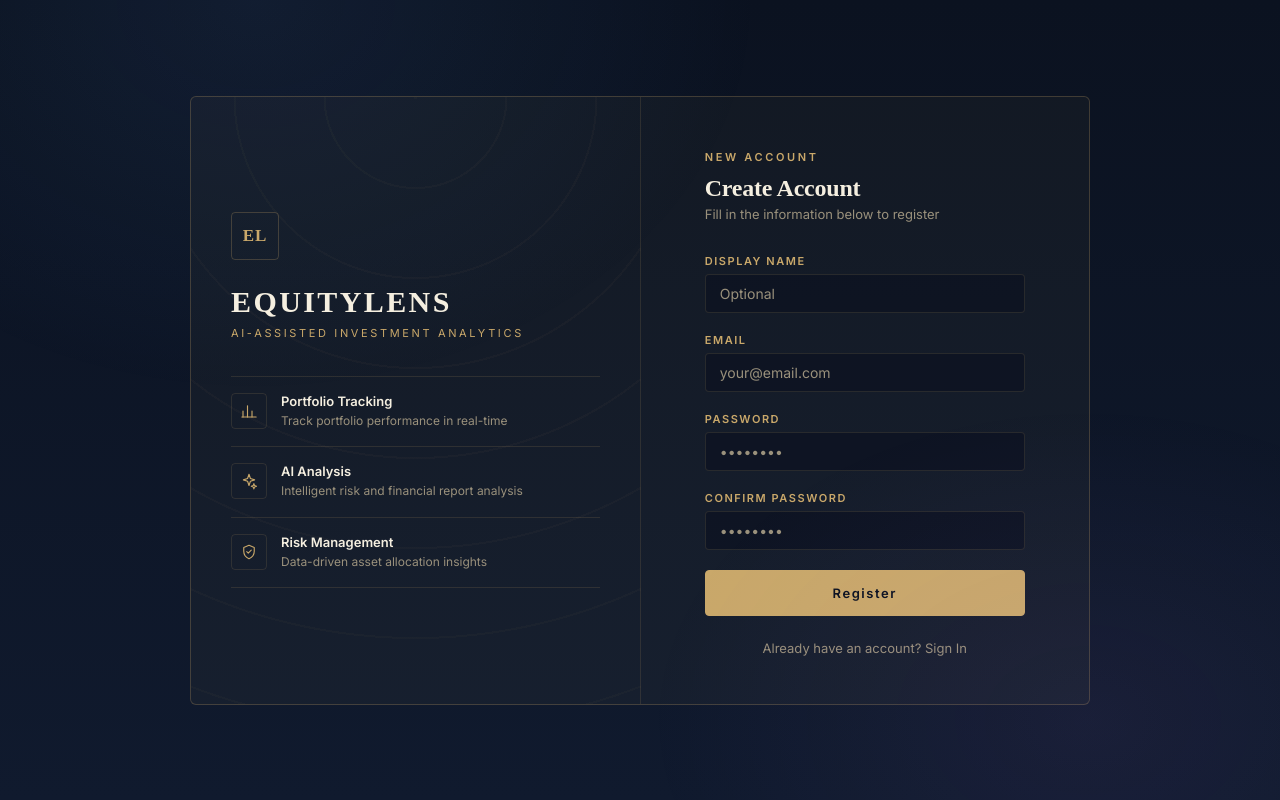
RegisterView › shows error when password is less than 6 characters
Type "test@test.com" into the field with placeholder "your@email.com".
click(865, 372); type("test@test.com")  # box [705,352,1025,392]
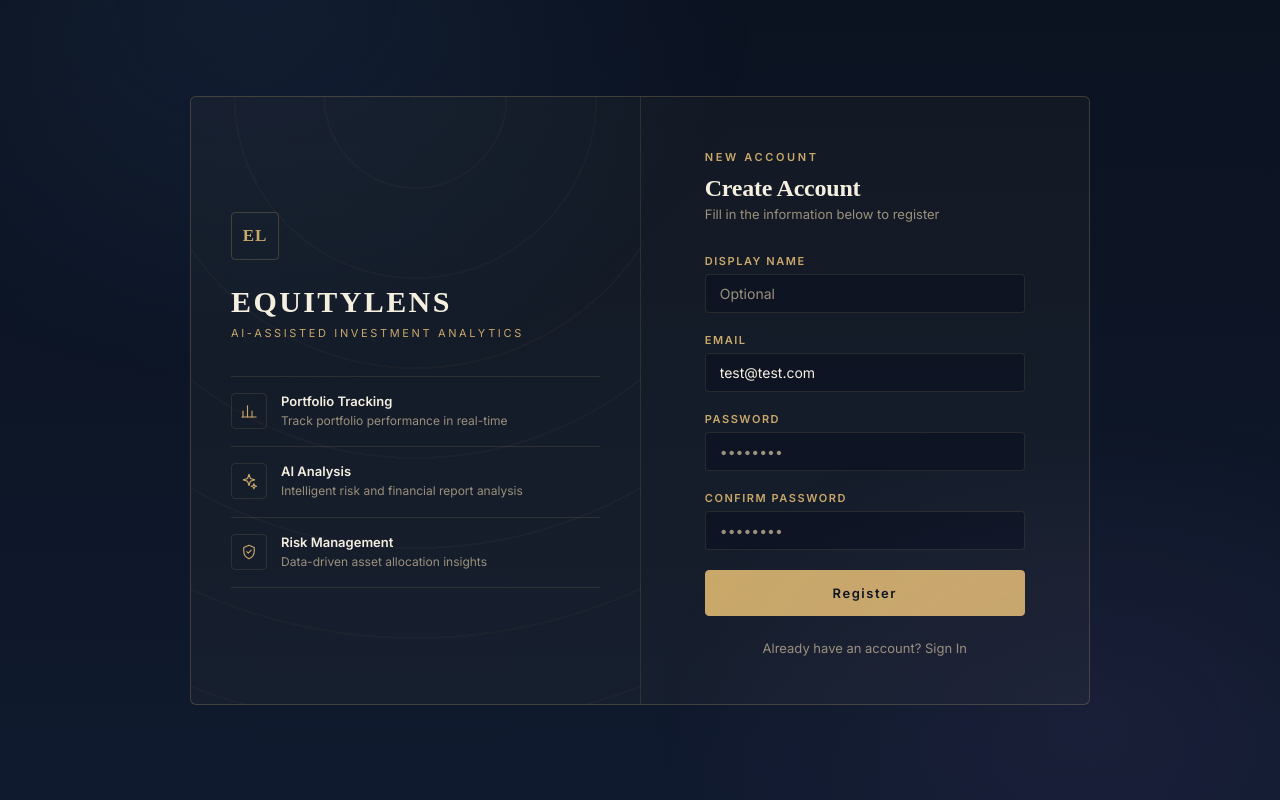
Type "12345" into the 1st password field with placeholder "••••••••".
click(865, 451); type("12345")  # box [705,432,1025,470]
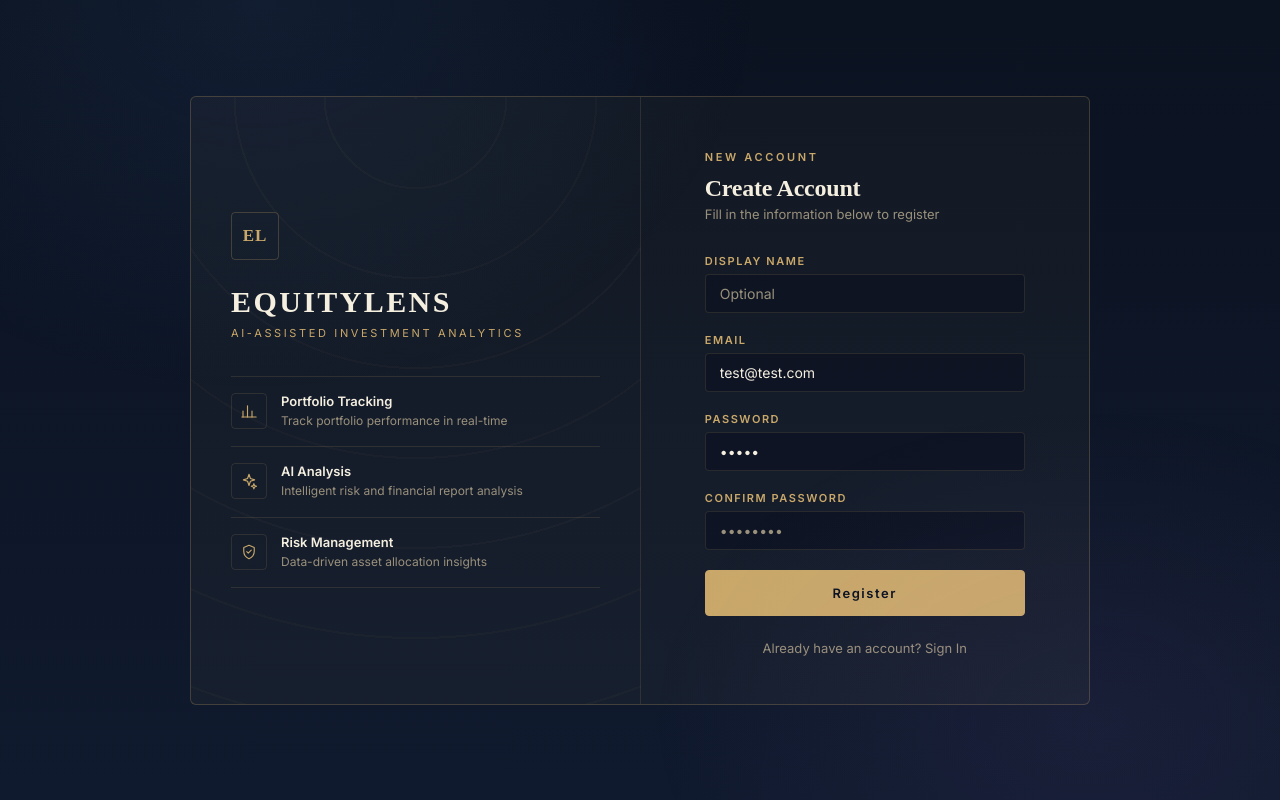
Submit the form, box [705,254,1025,616]
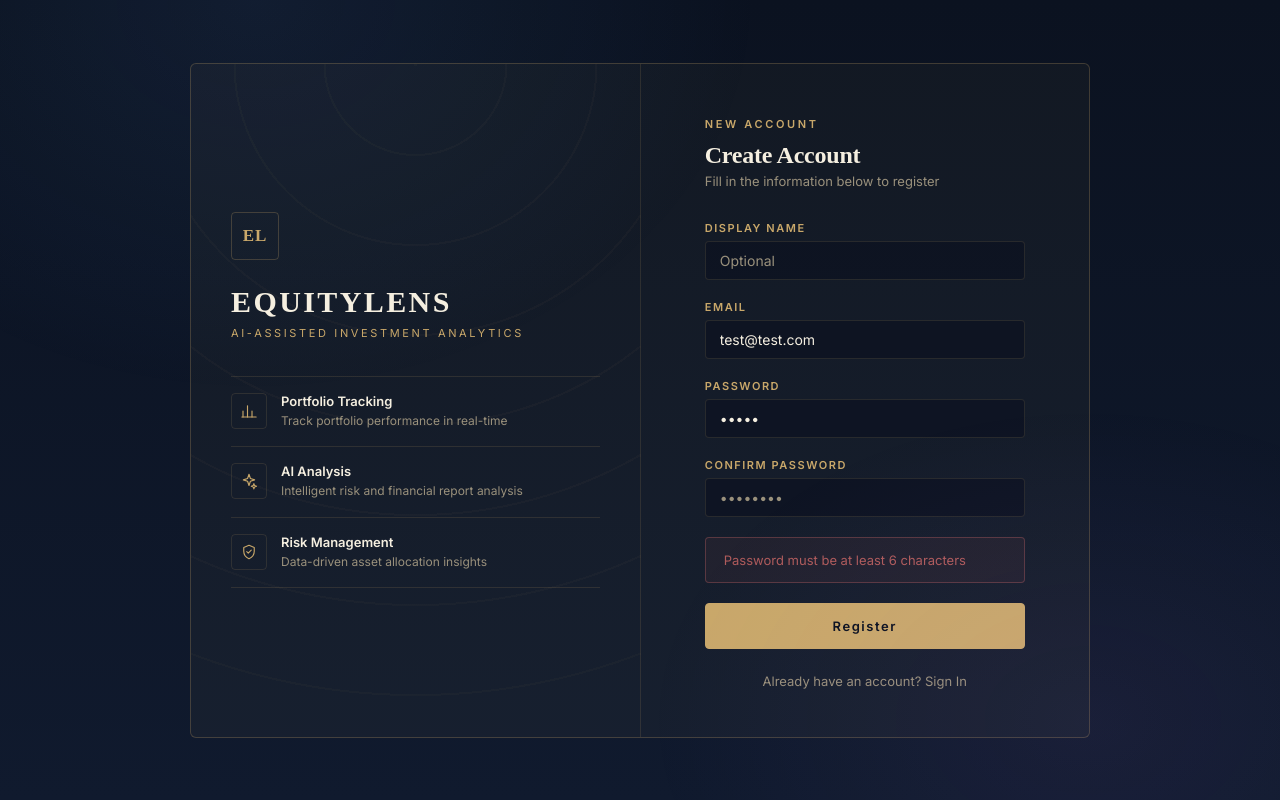
Now the text "Password must be at least 6 characters" is shown, box [705,536,1025,582]
